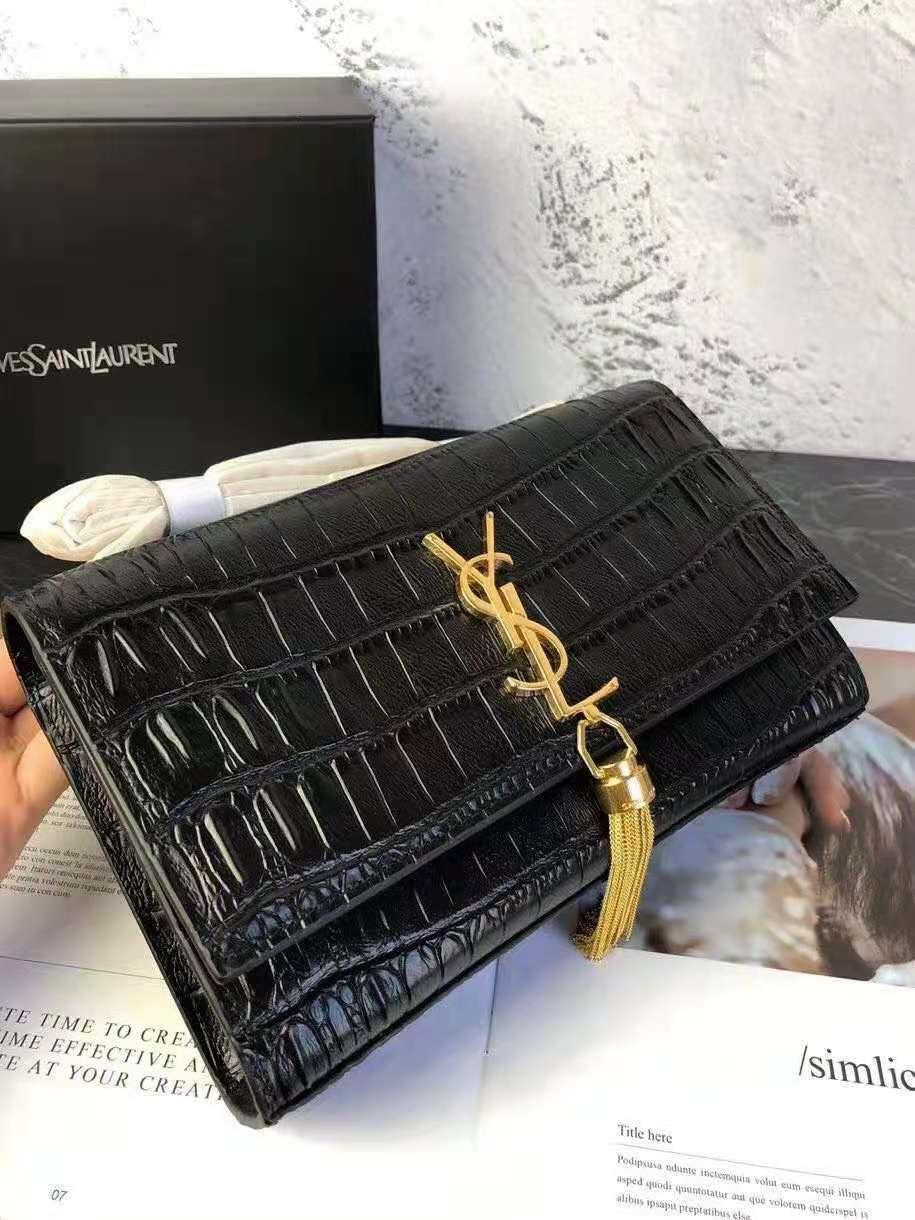YVES-SAINT-LAURENT: (423, 510, 621, 722)
